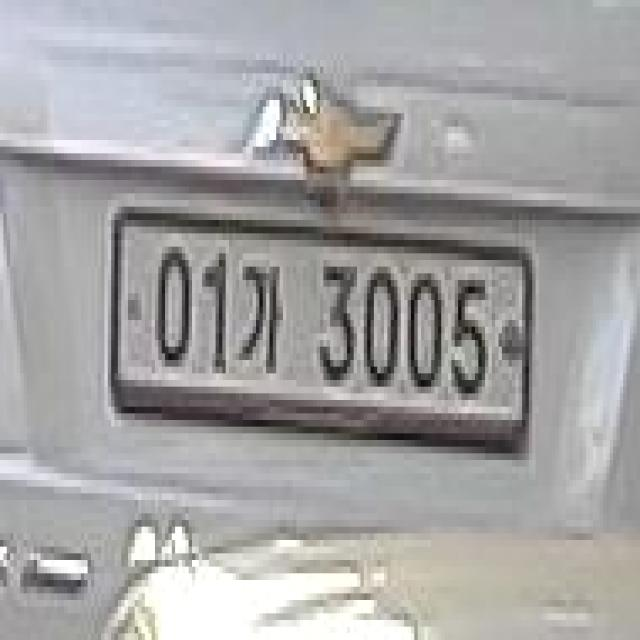illegal_plate: (102, 203, 535, 476)
